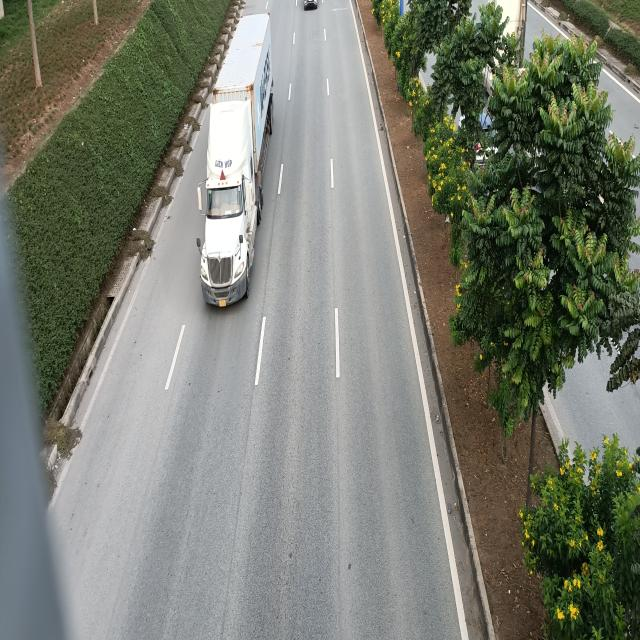container: (198, 12, 278, 304)
